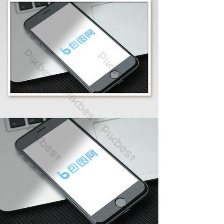phone: (12, 112, 153, 224), (21, 0, 141, 95)
